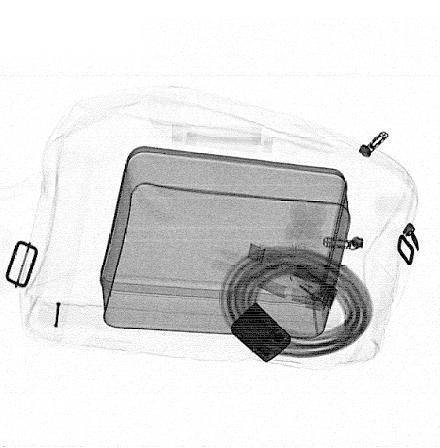Lighter: (231, 302, 291, 363)
